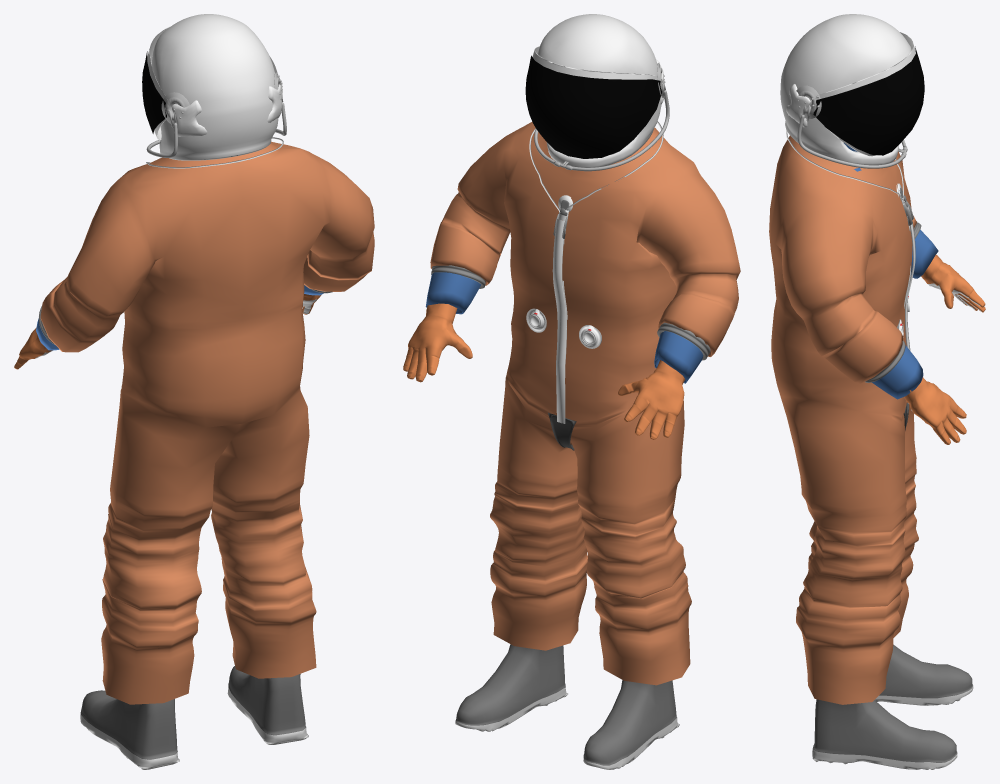
File: ACES.glb
The picture shows the model from 3 angles, left to right: view 1: azimuth 30°, elevation 25°; view 2: azimuth 150°, elevation 25°; view 3: azimuth 270°, elevation 25°; orthographic projection. The views are drawn at different scales.
Parts seen in each view (by area): view 1: acesjustforroomshow; view 2: acesjustforroomshow; view 3: acesjustforroomshow.
Part boxes in pixels (left/top/right/bottom): acesjustforroomshow: left=14, top=14, right=374, bottom=769; acesjustforroomshow: left=403, top=14, right=740, bottom=769; acesjustforroomshow: left=769, top=14, right=985, bottom=769.
Bounding box in the file's own units: 0.8872 × 2 × 0.5549.
